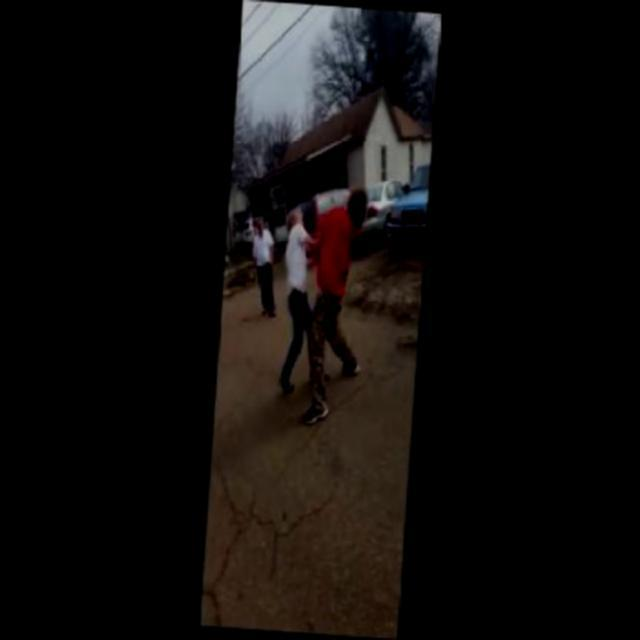fight: (281, 185, 367, 324)
non-fight: (248, 214, 280, 294)
